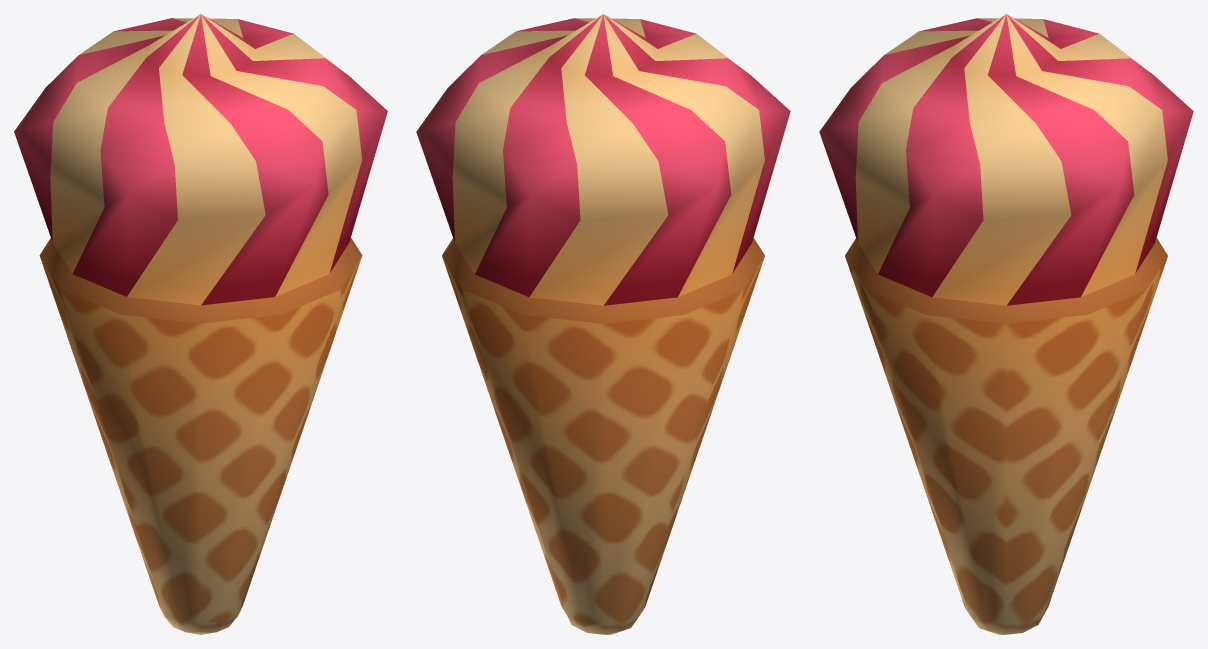
The model's file is m_IceCream16.fbx.
3 views of the same model, side by side, from view 1: azimuth 30°, elevation 25°; view 2: azimuth 150°, elevation 25°; view 3: azimuth 270°, elevation 25° (orthographic).
Parts seen in each view (by area): view 1: m_IceCream16; view 2: m_IceCream16; view 3: m_IceCream16.
Boxes of the visible parts, <box> form: m_IceCream16: <box>14,14,387,634</box>; m_IceCream16: <box>416,14,790,634</box>; m_IceCream16: <box>819,14,1193,634</box>.
Bounding box in the file's own units: 9.62 × 18.75 × 10.33.
